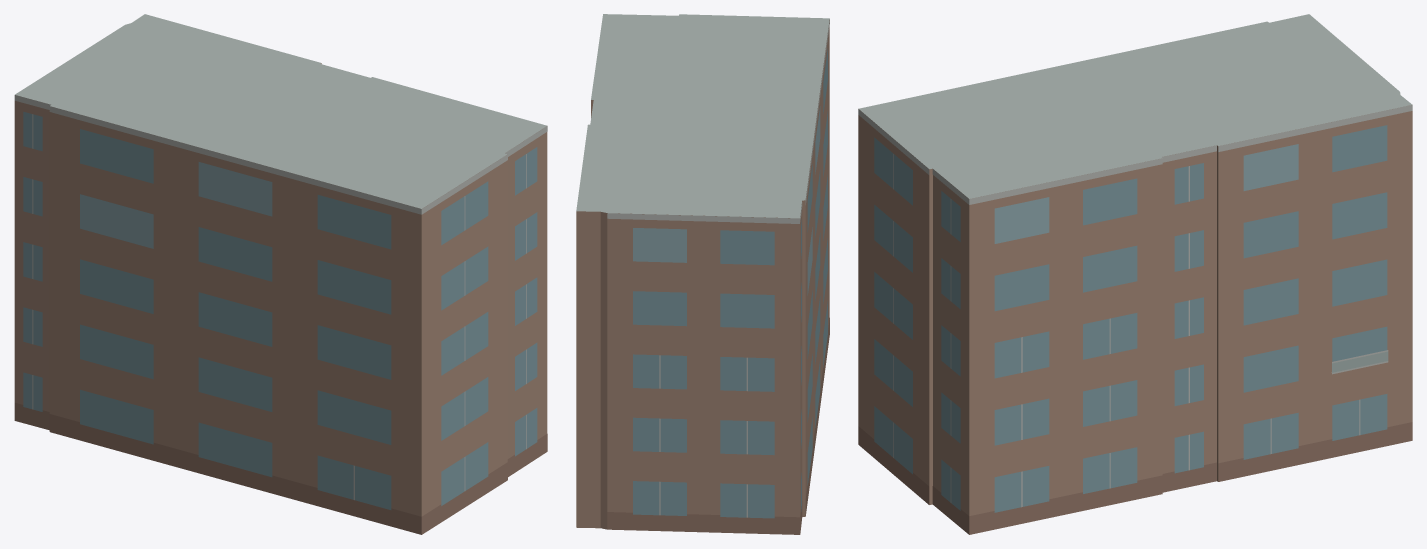
File: survey-upis-32809317.glb
The picture shows the model from 3 angles, left to right: view 1: azimuth 30°, elevation 25°; view 2: azimuth 150°, elevation 25°; view 3: azimuth 270°, elevation 25°; orthographic projection. The views are drawn at different scales.
Parts seen in each view (by area): view 1: survey-upis-32809317.tmp; view 2: survey-upis-32809317.tmp; view 3: survey-upis-32809317.tmp.
Boxes of the visible parts, x1,y1,x2,y2 form: survey-upis-32809317.tmp: [14, 14, 547, 534]; survey-upis-32809317.tmp: [576, 14, 829, 534]; survey-upis-32809317.tmp: [858, 14, 1412, 534].
Bounding box in the file's own units: 16.07 × 13.6 × 20.34.
